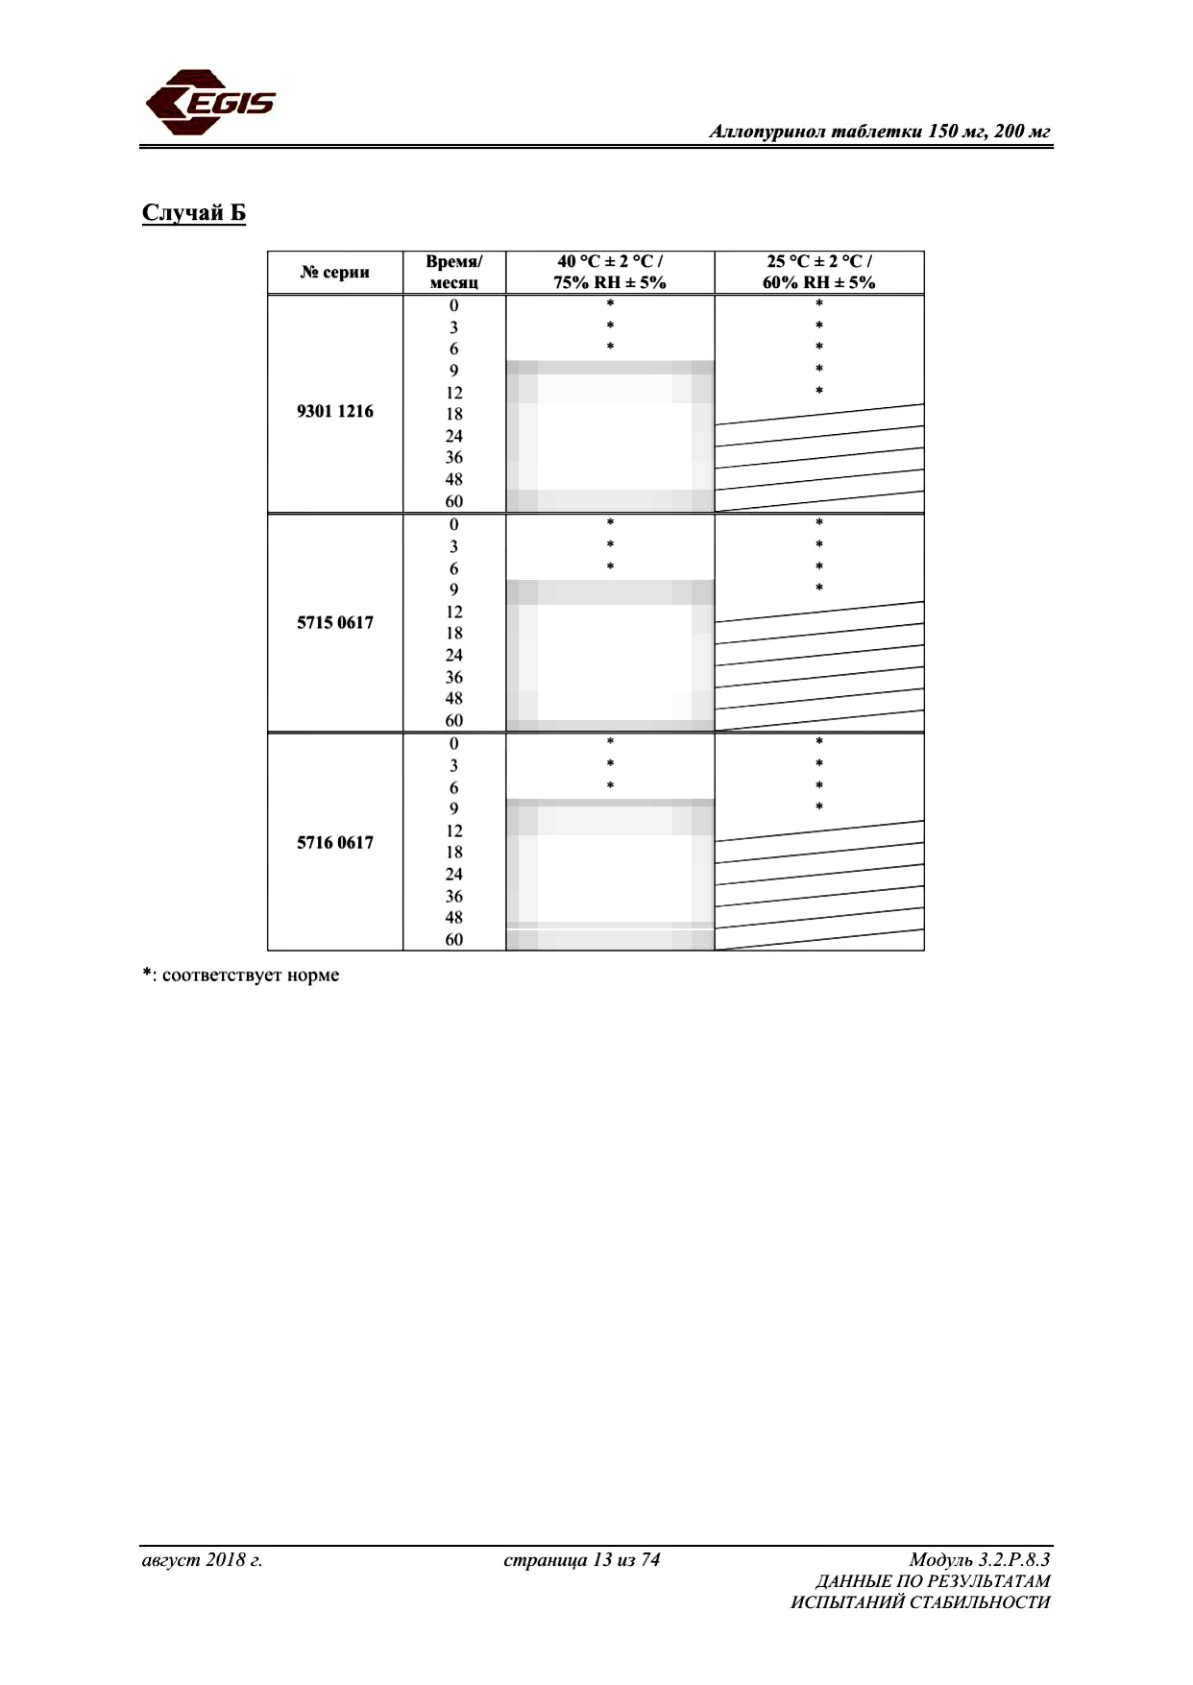full_lined: (266, 249, 924, 952)
